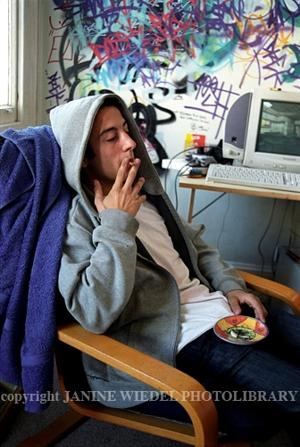person: (48, 90, 297, 441)
